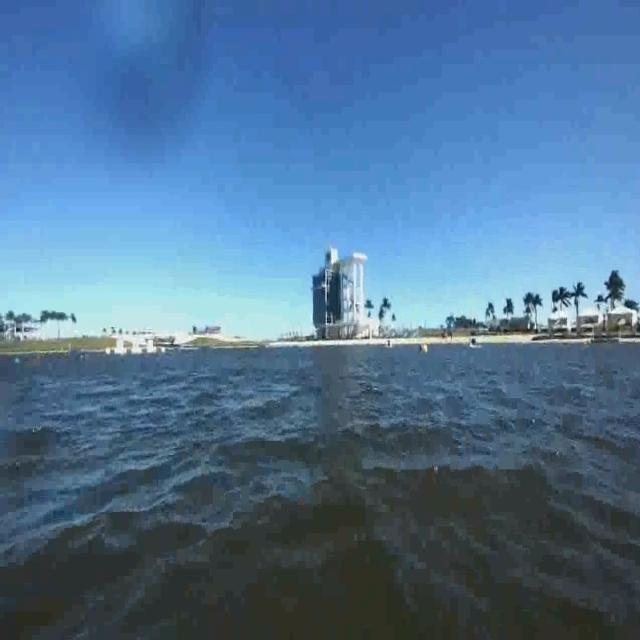yellow-buoy: (422, 344, 428, 355)
